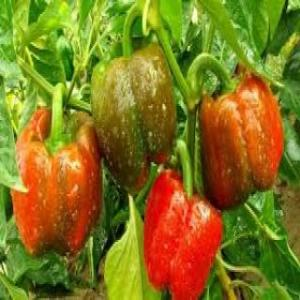bell_pepper: (86, 41, 180, 193)
